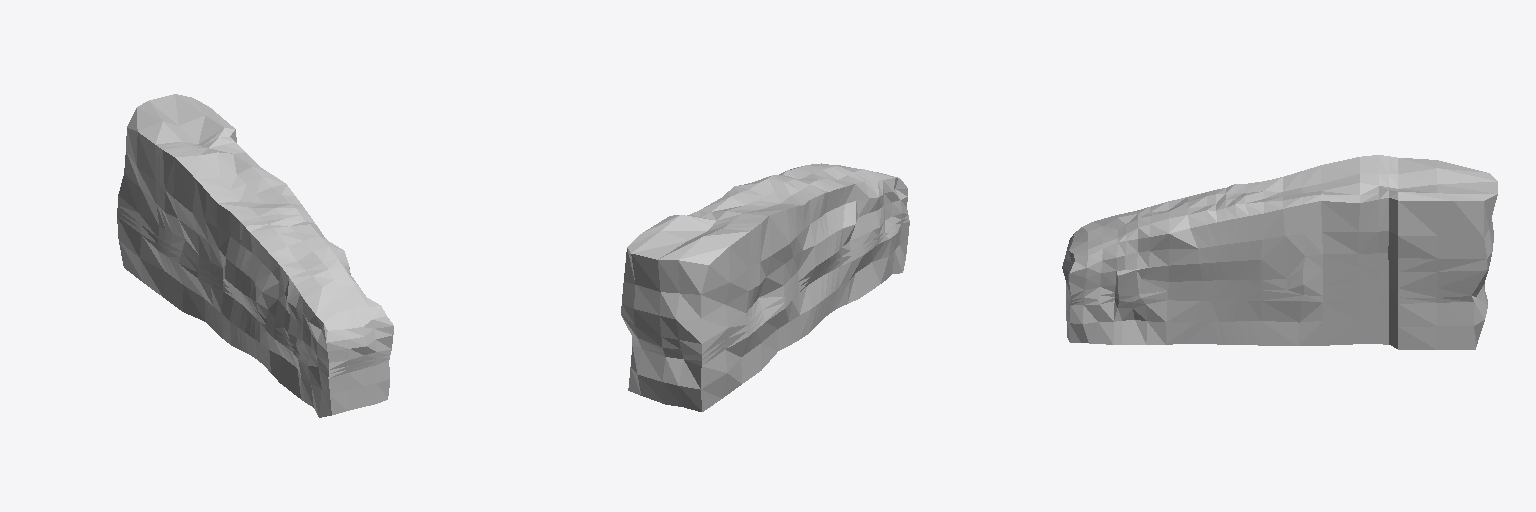
The model's file is Unity 5.obj.
3 views of the same model, side by side, from view 1: azimuth 30°, elevation 25°; view 2: azimuth 150°, elevation 25°; view 3: azimuth 270°, elevation 25° (orthographic).
Visible parts, largest first — view 1: CliffV2_CliffV2; view 2: CliffV2_CliffV2; view 3: CliffV2_CliffV2.
Boxes of the visible parts, box(x1,y1,x2,y2) form: CliffV2_CliffV2: box(117, 94, 393, 417); CliffV2_CliffV2: box(621, 163, 909, 411); CliffV2_CliffV2: box(1062, 155, 1497, 349).
Size of the model in its own units: 9.93 by 17.68 by 43.24.